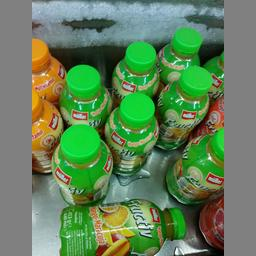juice: (58, 198, 184, 255), (48, 121, 114, 206), (152, 65, 211, 151), (104, 92, 159, 178), (164, 127, 222, 202)
